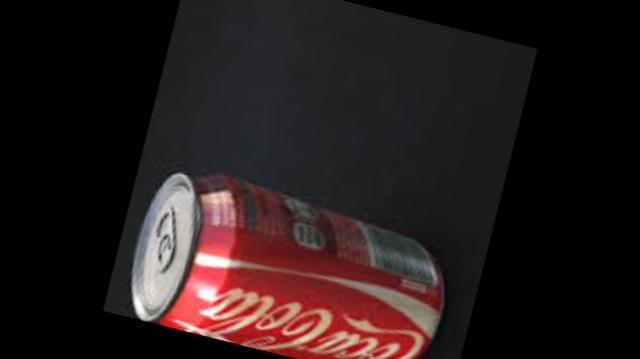metal: (128, 176, 439, 359)
